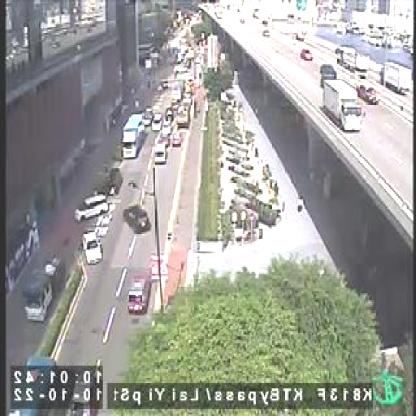Car: (35, 254, 66, 290), (75, 192, 107, 222), (128, 278, 150, 314), (82, 233, 102, 266), (126, 205, 148, 228), (357, 82, 377, 103), (107, 169, 122, 195), (320, 62, 336, 80), (155, 144, 166, 165), (300, 49, 314, 62), (162, 124, 171, 136), (174, 134, 182, 146), (165, 109, 172, 121), (261, 29, 269, 38)
Minibus: (152, 113, 162, 131)
Truck: (22, 259, 62, 321), (321, 76, 358, 130), (383, 58, 410, 98), (335, 46, 368, 77), (121, 115, 143, 159), (179, 112, 188, 132)
